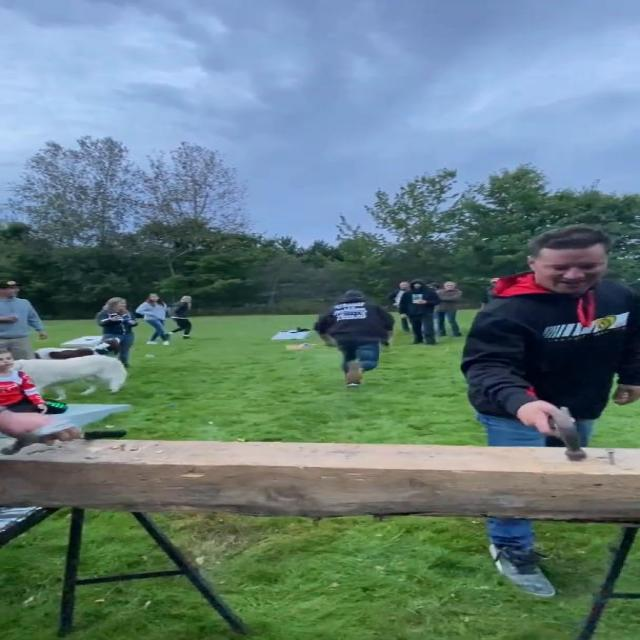hammer: (0, 420, 128, 456), (542, 405, 588, 461)
